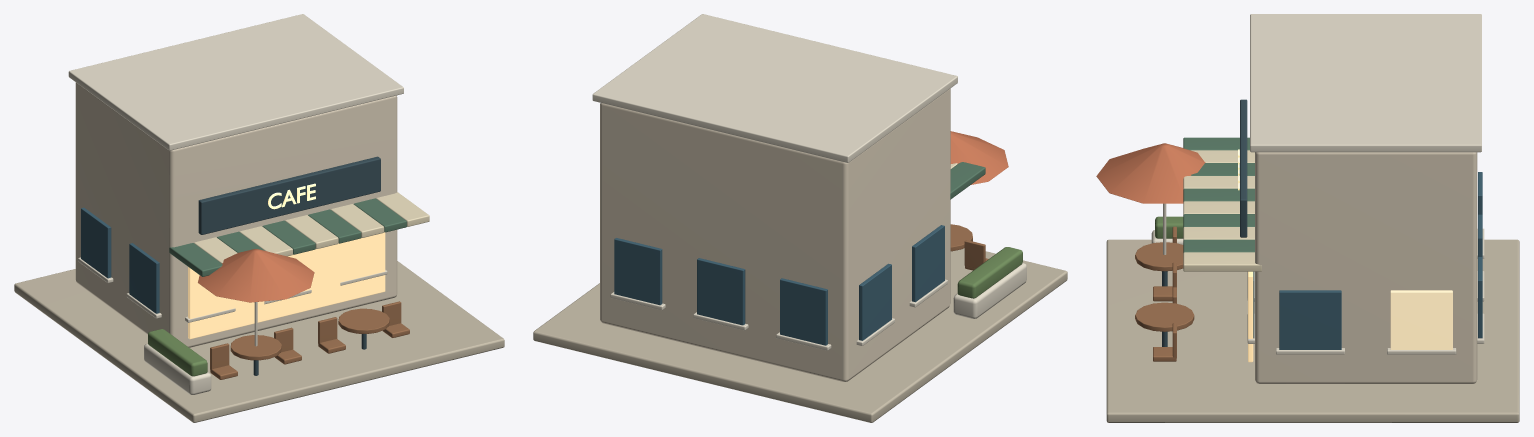
File: cafe.glb
The picture shows the model from 3 angles, left to right: view 1: azimuth 30°, elevation 25°; view 2: azimuth 150°, elevation 25°; view 3: azimuth 270°, elevation 25°; orthographic projection. The views are drawn at different scales.
Parts seen in each view (by area): view 1: cafe_Building_Volume, cafe_Roof_Coping, cafe_Site_Paving, cafe_Storefront, cafe_Sign_Backplate, cafe_Cafe_Umbrella, cafe_Window_Recess.006, cafe_Window_Recess.008, cafe_Hedge, cafe_Raised_Planter, cafe_Cafe_Table.001, cafe_Cafe_Table (+12 smaller); view 2: cafe_Building_Volume, cafe_Roof_Coping, cafe_Site_Paving, cafe_Window_Recess.004, cafe_Window_Recess.002, cafe_Window_Recess, cafe_Window_Recess.006, cafe_Window_Recess.008, cafe_Cafe_Umbrella, cafe_Hedge, cafe_Raised_Planter, cafe_Striped_Awning (+1 smaller); view 3: cafe_Building_Volume, cafe_Site_Paving, cafe_Roof_Coping, cafe_Cafe_Umbrella, cafe_Window_Recess.009, cafe_Window_Recess.007, cafe_Striped_Awning.009, cafe_Cafe_Table.001, cafe_Cafe_Table, cafe_Sign_Backplate, cafe_Striped_Awning.008, cafe_Striped_Awning.004 (+10 smaller).
Boxes of the visible parts, x1=… form: cafe_Building_Volume: x1=75, y1=82, x2=397, y2=347; cafe_Roof_Coping: x1=68, y1=14, x2=403, y2=150; cafe_Site_Paving: x1=14, y1=261, x2=504, y2=422; cafe_Storefront: x1=188, y1=232, x2=385, y2=339; cafe_Sign_Backplate: x1=198, y1=156, x2=380, y2=234; cafe_Cafe_Umbrella: x1=198, y1=249, x2=314, y2=302; cafe_Window_Recess.006: x1=81, y1=207, x2=111, y2=278; cafe_Window_Recess.008: x1=129, y1=243, x2=159, y2=313; cafe_Hedge: x1=148, y1=329, x2=207, y2=376; cafe_Raised_Planter: x1=144, y1=343, x2=211, y2=394; cafe_Cafe_Table.001: x1=338, y1=308, x2=389, y2=333; cafe_Cafe_Table: x1=230, y1=335, x2=281, y2=360; cafe_Building_Volume: x1=600, y1=88, x2=950, y2=381; cafe_Roof_Coping: x1=592, y1=14, x2=957, y2=162; cafe_Site_Paving: x1=533, y1=248, x2=1067, y2=422; cafe_Window_Recess.004: x1=614, y1=238, x2=662, y2=305; cafe_Window_Recess.002: x1=697, y1=258, x2=745, y2=325; cafe_Window_Recess: x1=780, y1=278, x2=827, y2=345; cafe_Window_Recess.006: x1=859, y1=263, x2=891, y2=340; cafe_Window_Recess.008: x1=912, y1=225, x2=944, y2=302; cafe_Cafe_Umbrella: x1=950, y1=131, x2=1008, y2=184; cafe_Hedge: x1=957, y1=247, x2=1022, y2=298; cafe_Raised_Planter: x1=953, y1=263, x2=1026, y2=318; cafe_Striped_Awning: x1=950, y1=162, x2=985, y2=199; cafe_Building_Volume: x1=1255, y1=152, x2=1477, y2=383; cafe_Site_Paving: x1=1106, y1=239, x2=1519, y2=422; cafe_Roof_Coping: x1=1250, y1=14, x2=1481, y2=152; cafe_Cafe_Umbrella: x1=1096, y1=143, x2=1205, y2=203; cafe_Window_Recess.009: x1=1279, y1=290, x2=1341, y2=349; cafe_Window_Recess.007: x1=1390, y1=290, x2=1452, y2=349; cafe_Striped_Awning.009: x1=1183, y1=252, x2=1261, y2=271; cafe_Cafe_Table.001: x1=1135, y1=302, x2=1194, y2=331; cafe_Cafe_Table: x1=1135, y1=242, x2=1183, y2=271; cafe_Sign_Backplate: x1=1240, y1=99, x2=1247, y2=237; cafe_Striped_Awning.008: x1=1183, y1=239, x2=1254, y2=252; cafe_Striped_Awning.004: x1=1183, y1=188, x2=1254, y2=201.
Bounding box in the file's own units: 7.8 × 5.36 × 7.99.
